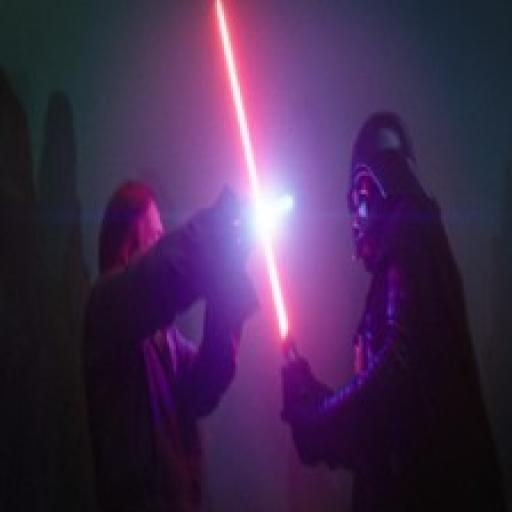human: (271, 98, 512, 512), (74, 107, 268, 512)
lightsaber: (216, 193, 302, 246)
sith saber: (214, 0, 322, 429)
